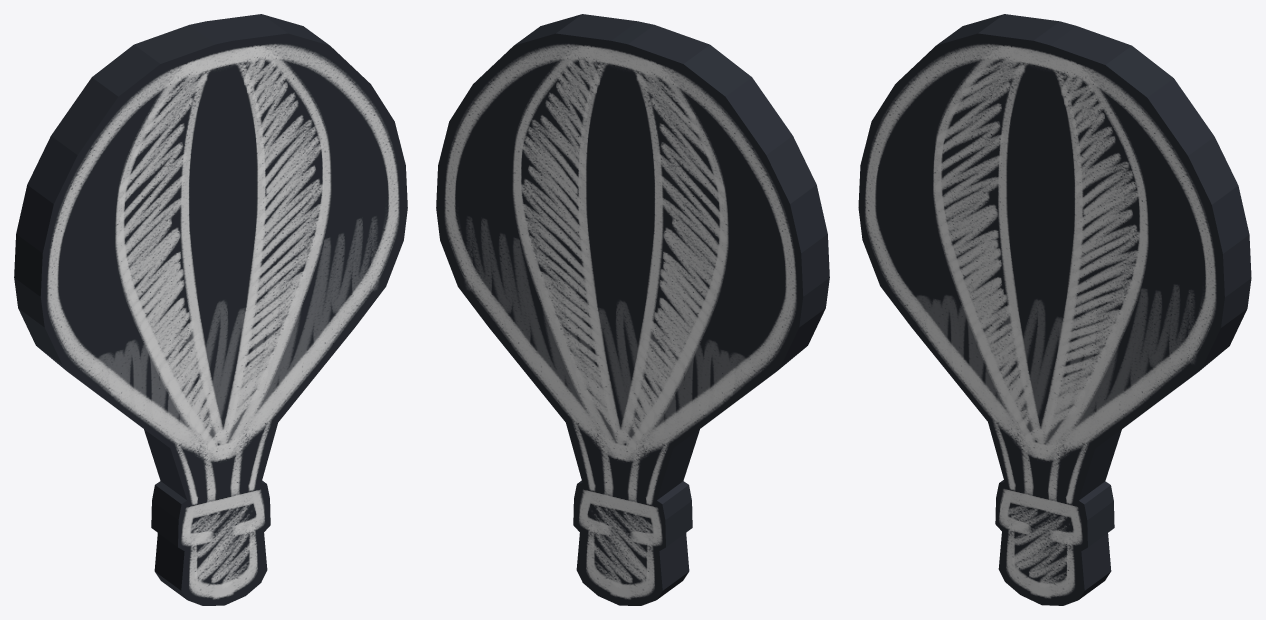
Rendered from Ballooning.fbx.
The picture shows the model from 3 angles, left to right: view 1: azimuth 30°, elevation 25°; view 2: azimuth 150°, elevation 25°; view 3: azimuth 330°, elevation 25°; orthographic projection.
Parts seen in each view (by area): view 1: m_Ballooning; view 2: m_Ballooning; view 3: m_Ballooning.
Boxes of the visible parts, x1,y1,x2,y2 form: m_Ballooning: (14, 14, 407, 605); m_Ballooning: (436, 14, 829, 605); m_Ballooning: (858, 14, 1251, 605).
Bounding box in the file's own units: 0.7955 × 1.17 × 0.1.
